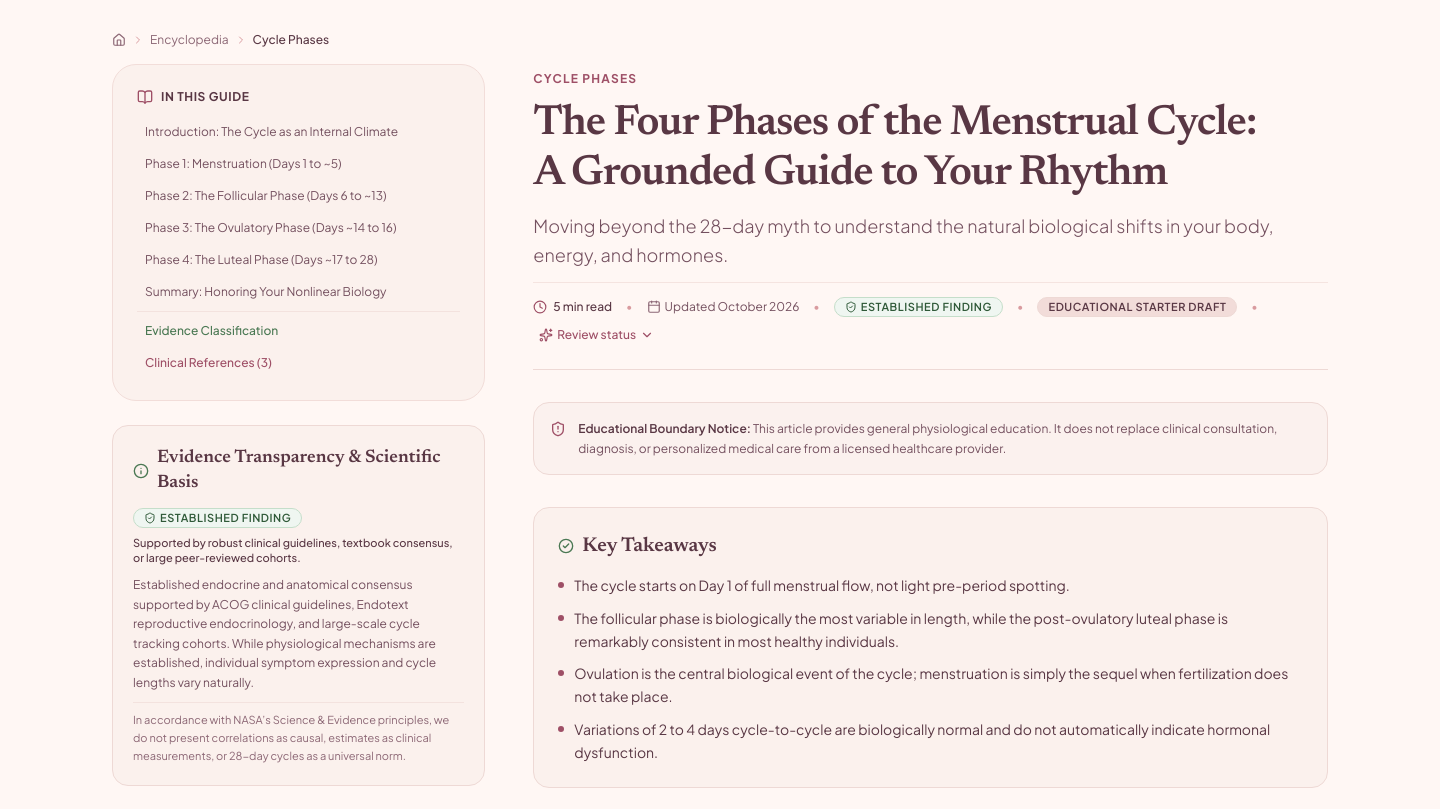
Scenario: Article Detail Page UX Refinement › provides an understated review status disclosure button that toggles review notes
This screenshot has width=1440, height=809.
Expected: the text "Content Review Status:" is not shown
Toggle open
Click the button "Review status": coordinates (597, 335) [533, 325, 660, 345]
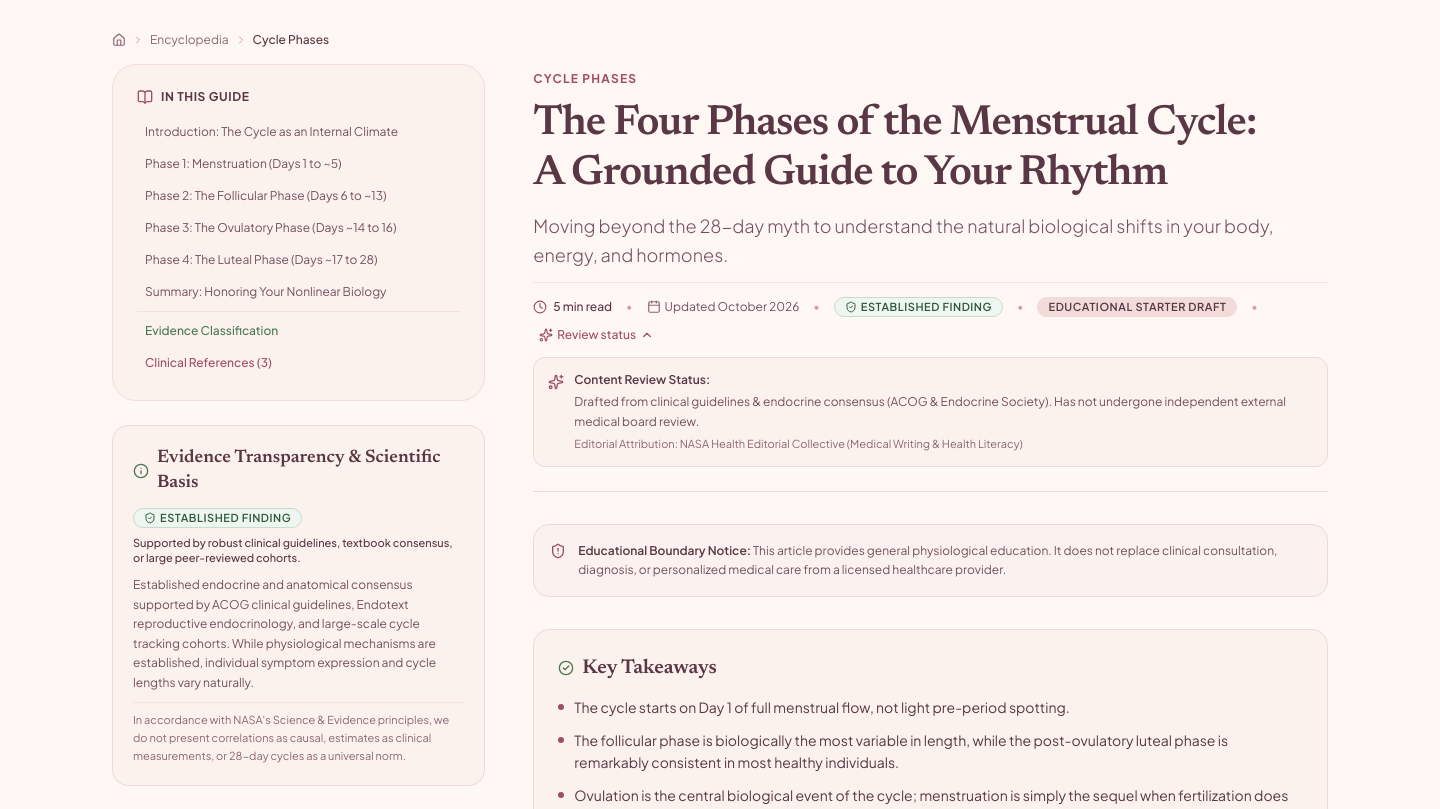
Result: the button "Review status" is expanded
Result: the text "Content Review Status:" is shown at [574, 372, 710, 387]
Result: the text "Drafted from clinical guidelines & endocrine consensus" is shown at [574, 394, 1286, 429]
Toggle closed
Click the button "Review status": coordinates (597, 335) [533, 325, 660, 345]
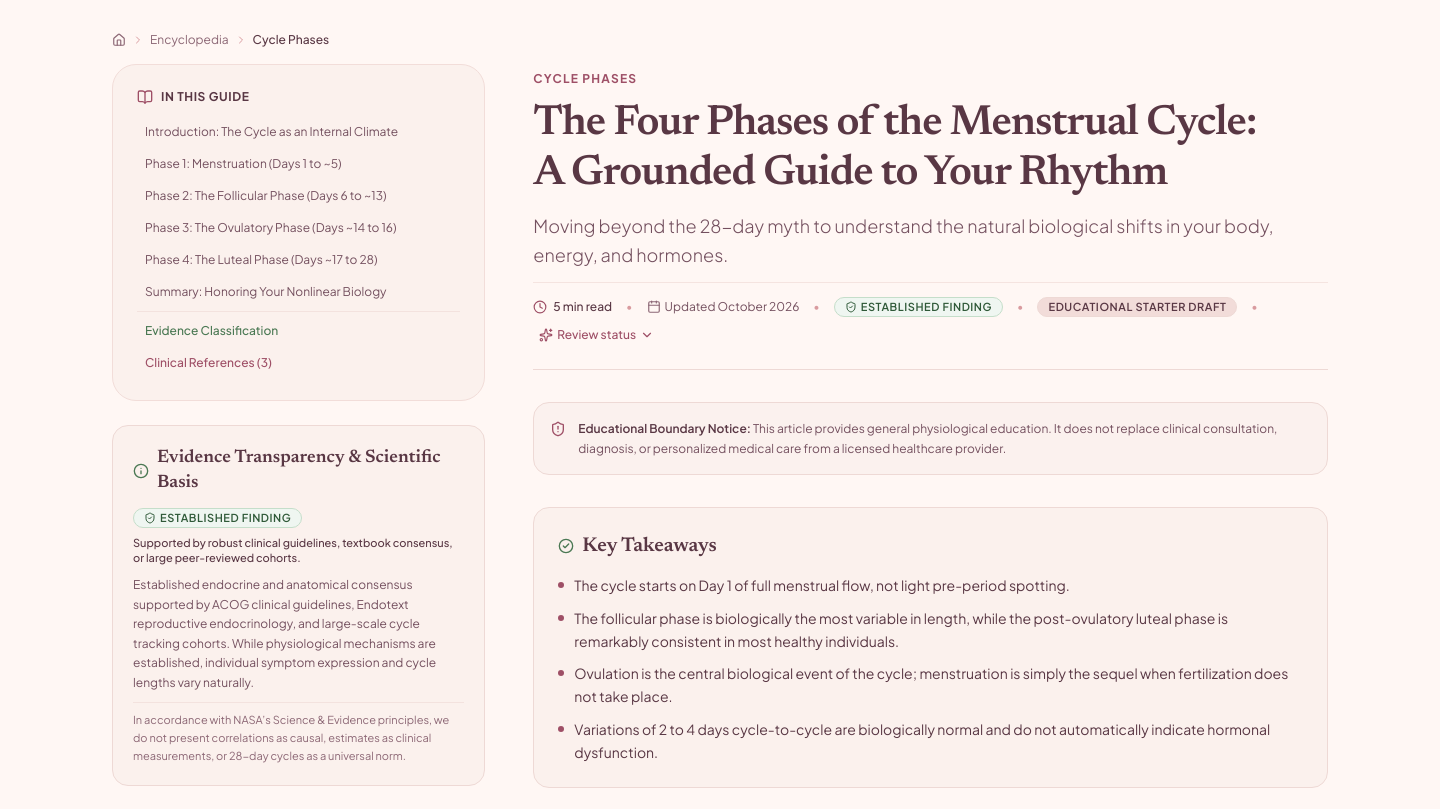
Result: the button "Review status" is collapsed at [533, 325, 660, 345]
Result: the text "Content Review Status:" is gone
